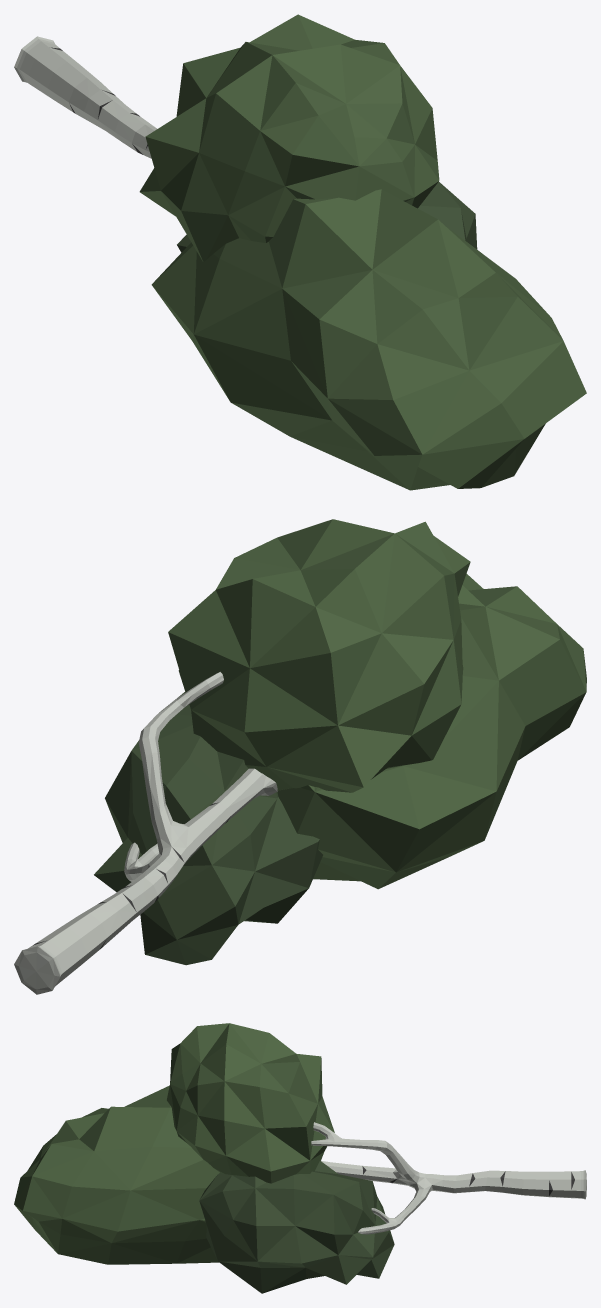
Rendered from tree-birch-3-40-ft.obj.
3 renders of one model, top to bottom at view 1: azimuth 30°, elevation 25°; view 2: azimuth 150°, elevation 25°; view 3: azimuth 270°, elevation 25°, orthographic. The views are drawn at different scales.
Parts seen in each view (by area): view 1: tree-birch-3-40-ft; view 2: tree-birch-3-40-ft; view 3: tree-birch-3-40-ft.
Boxes of the visible parts, <box> form: tree-birch-3-40-ft: <box>14,14,586,490</box>; tree-birch-3-40-ft: <box>14,519,586,994</box>; tree-birch-3-40-ft: <box>14,1023,586,1293</box>.
Bounding box in the file's own units: 185 × 208 × 480.
